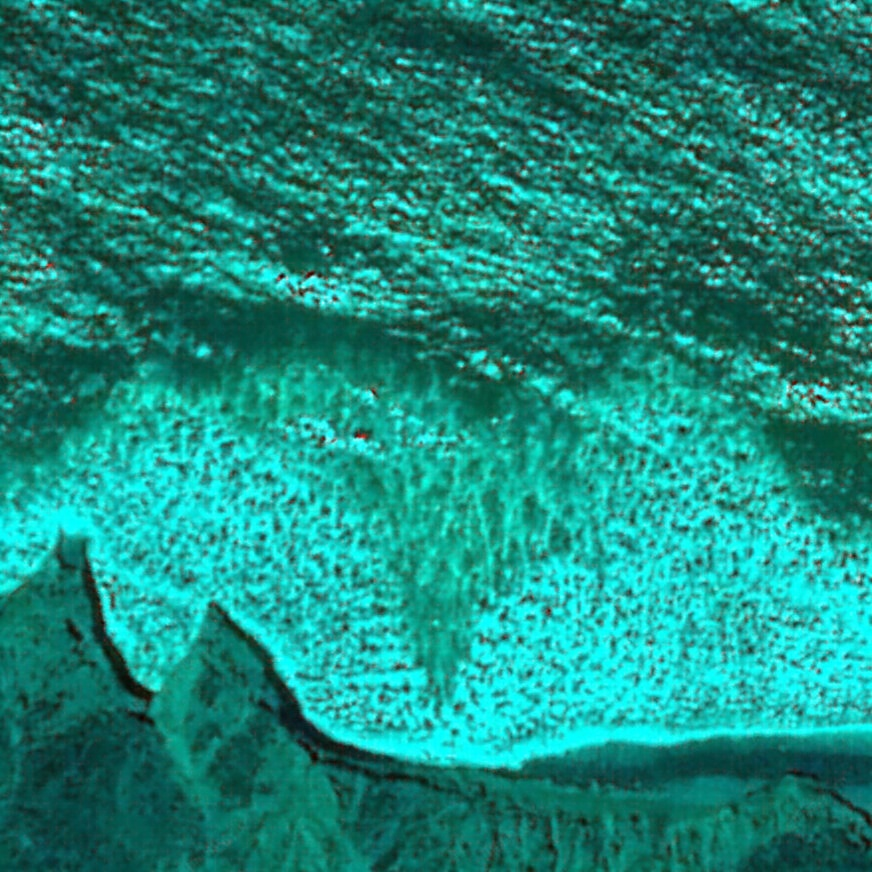rip_current: (310, 330, 601, 735)
